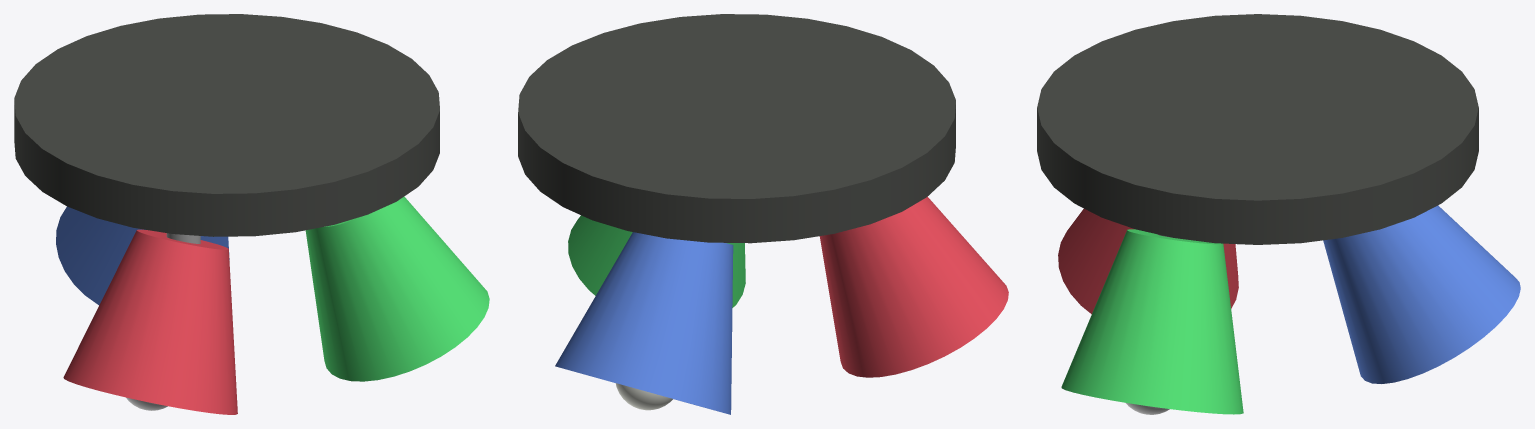
Rendered from lampki.fbx.
3 views of the same model, side by side, from view 1: azimuth 30°, elevation 25°; view 2: azimuth 150°, elevation 25°; view 3: azimuth 270°, elevation 25° (orthographic). The views are drawn at different scales.
Visible parts, largest first — view 1: Cylinder.009; view 2: Cylinder.009; view 3: Cylinder.009.
Part boxes in pixels (<box>): Cylinder.009: <box>14,14,489,414</box>; Cylinder.009: <box>518,14,1008,414</box>; Cylinder.009: <box>1037,14,1520,414</box>.
Size of the model in its own units: 457 by 275 by 459.
